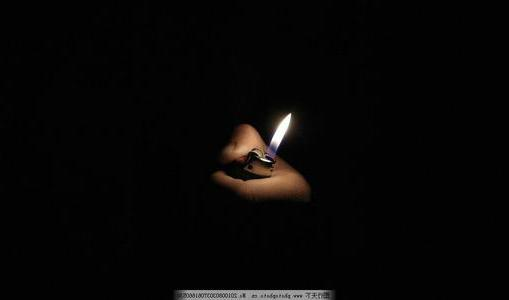fire: (262, 107, 298, 168)
